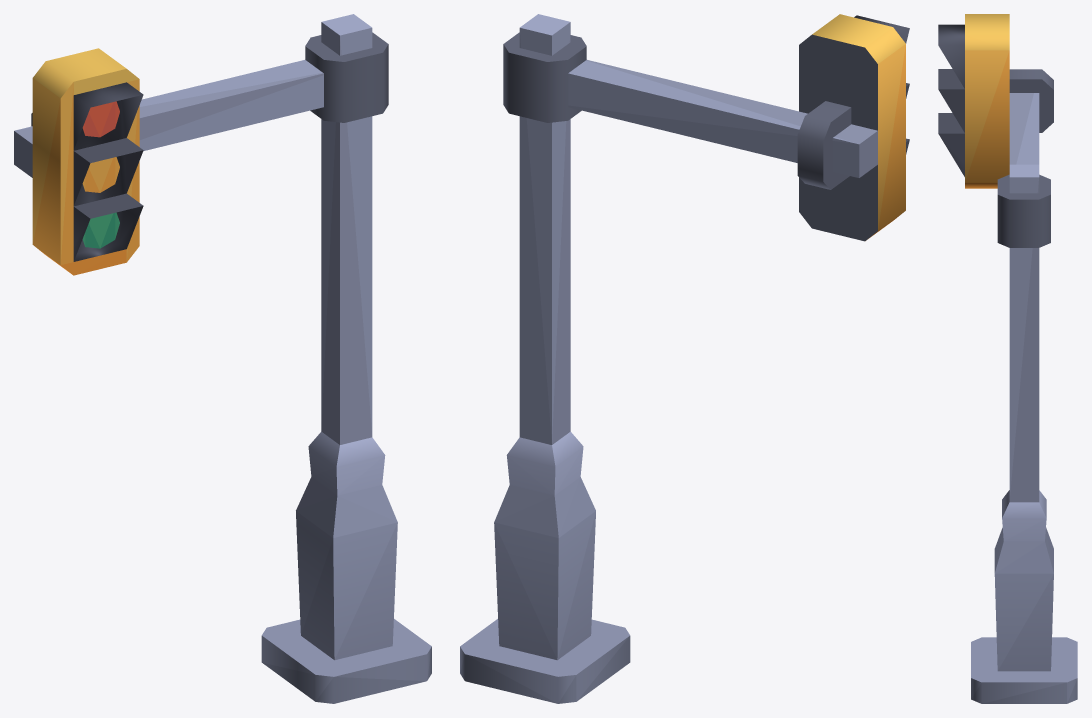
The picture shows the model from 3 angles, left to right: view 1: azimuth 30°, elevation 25°; view 2: azimuth 150°, elevation 25°; view 3: azimuth 270°, elevation 25°; orthographic projection. The views are drawn at different scales.
Parts seen in each view (by area): view 1: traffic-light-hanging; view 2: traffic-light-hanging; view 3: traffic-light-hanging.
Part boxes in pixels (x1,y1,x2,y2): traffic-light-hanging: [14, 14, 431, 703]; traffic-light-hanging: [460, 14, 909, 703]; traffic-light-hanging: [938, 14, 1077, 703].
Bounding box in the file's own units: 2.9 × 5 × 1.15.
